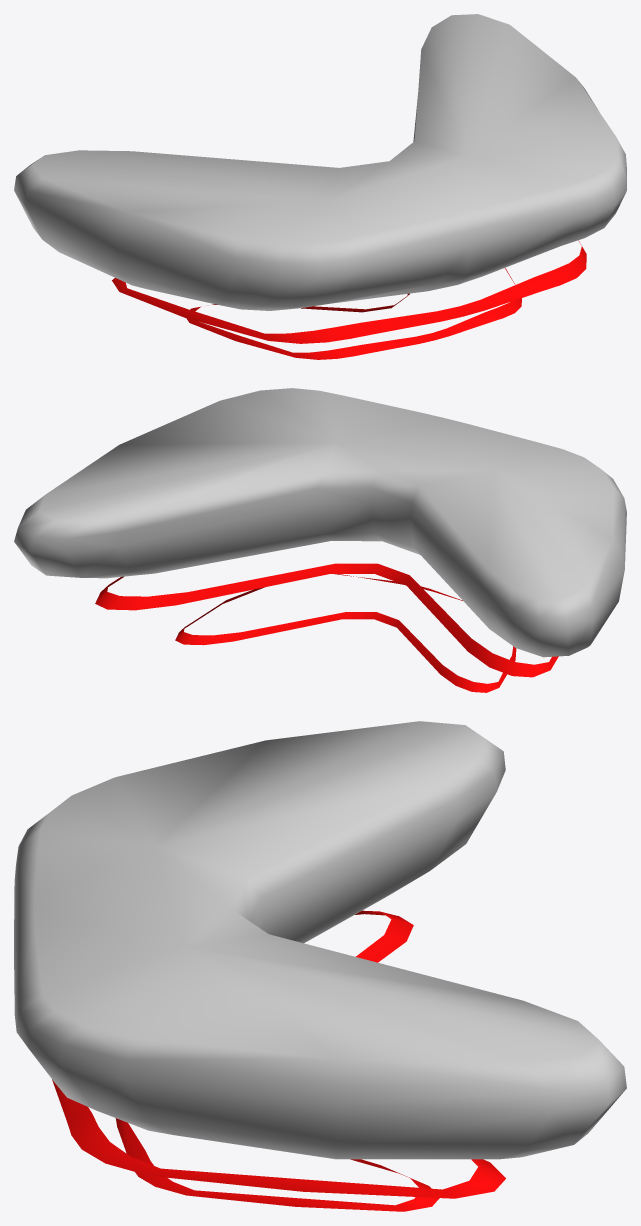
File: SM_Table_004.fbx
The picture shows the model from 3 angles, top to bottom: view 1: azimuth 30°, elevation 25°; view 2: azimuth 150°, elevation 25°; view 3: azimuth 270°, elevation 25°; orthographic projection. The views are drawn at different scales.
Visible parts, largest first — view 1: polySurface17; view 2: polySurface17; view 3: polySurface17.
Part boxes in pixels (x1,y1,x2,y2): polySurface17: (14,14,626,359); polySurface17: (14,388,626,692); polySurface17: (14,721,626,1211).
Size of the model in its own units: 423 by 116 by 304.
